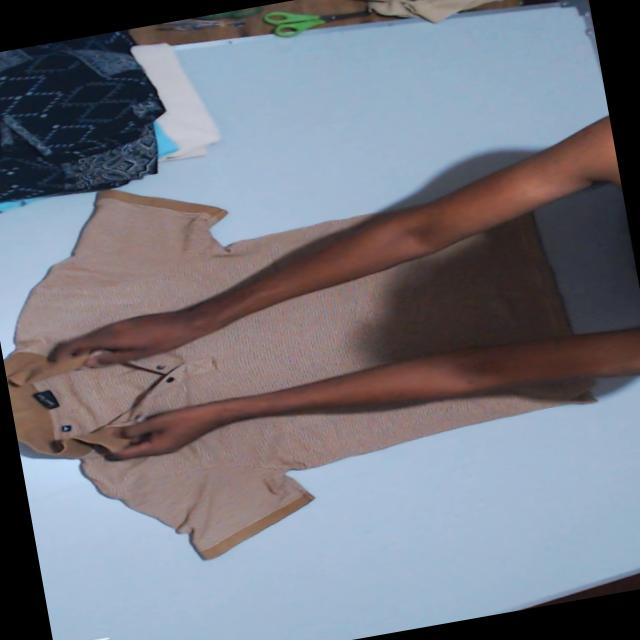new-garment: (4, 192, 592, 557)
